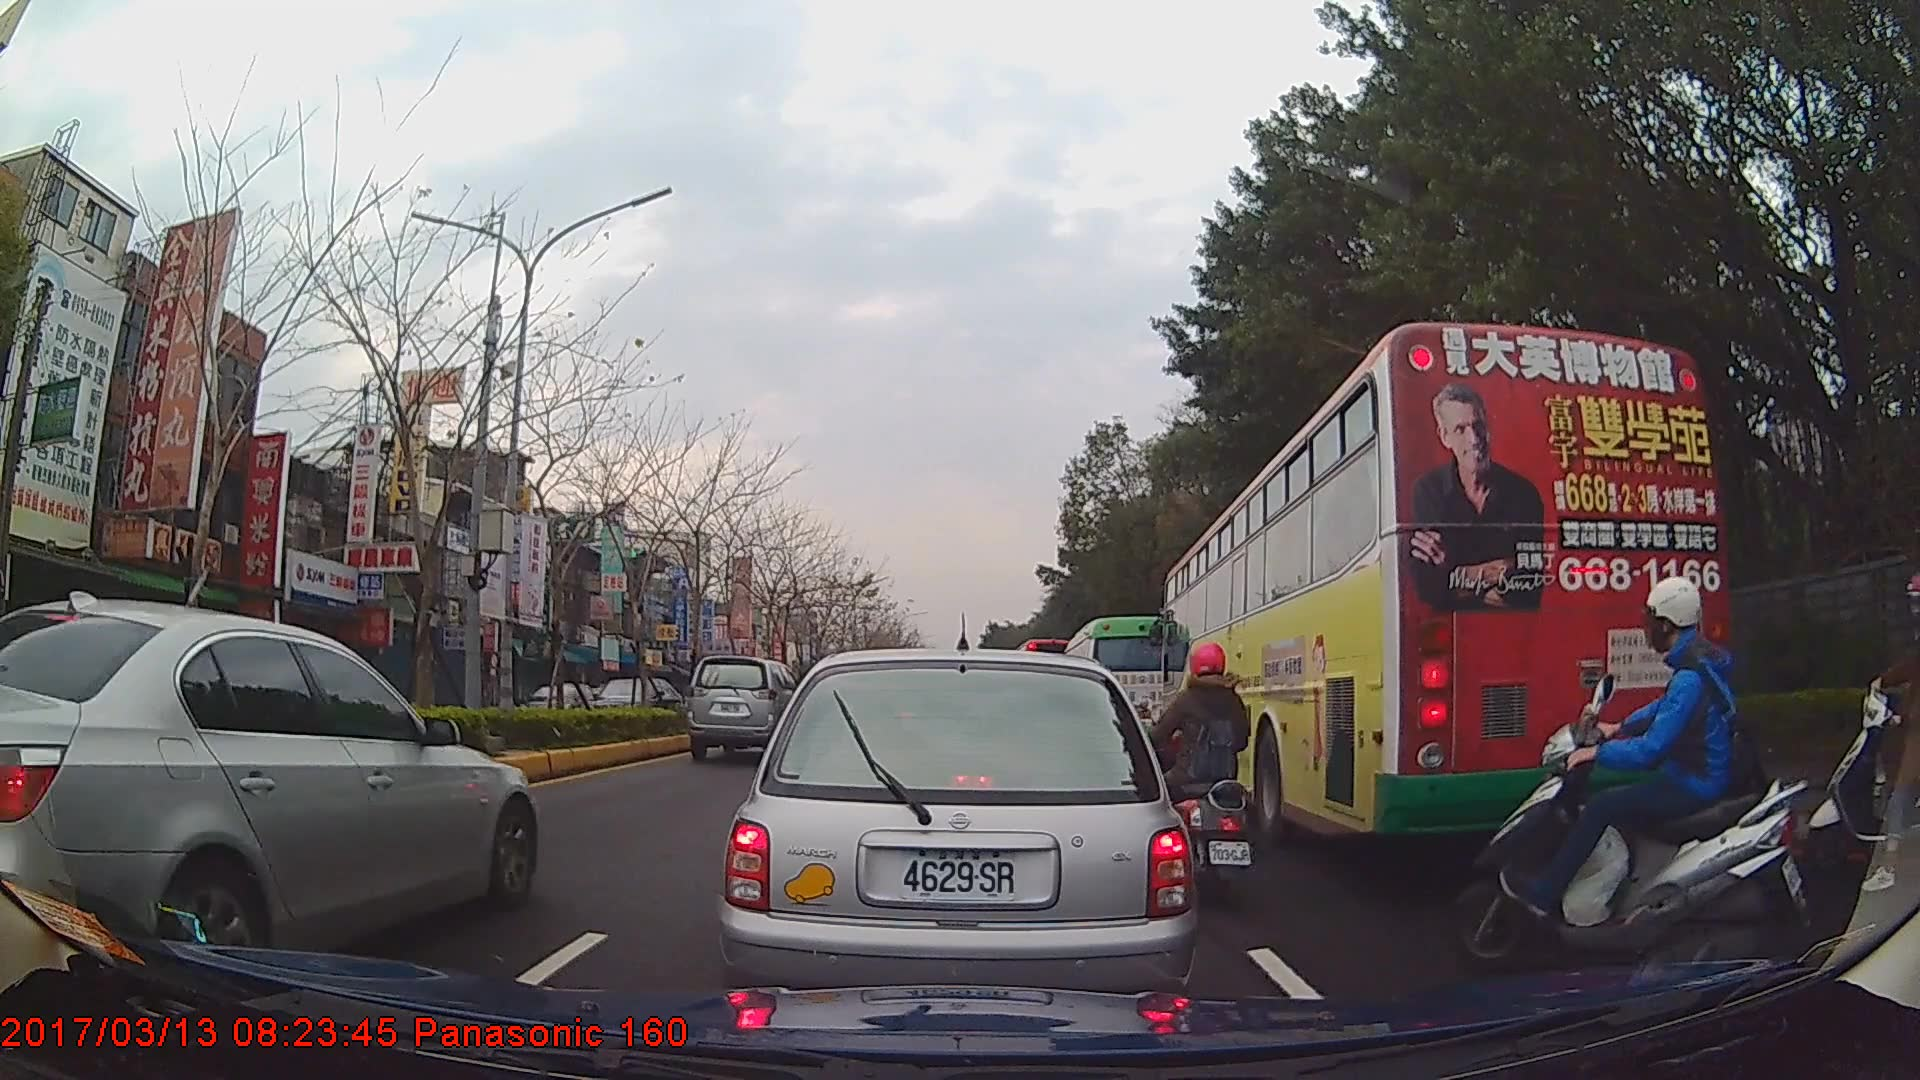rider: (1441, 574, 1812, 976), (1806, 571, 1919, 897), (1135, 638, 1256, 900)
vehicle: (1160, 320, 1727, 854), (0, 580, 537, 982), (716, 645, 1195, 1031), (1061, 614, 1187, 756), (686, 653, 812, 762), (579, 674, 680, 728), (513, 676, 595, 728)
